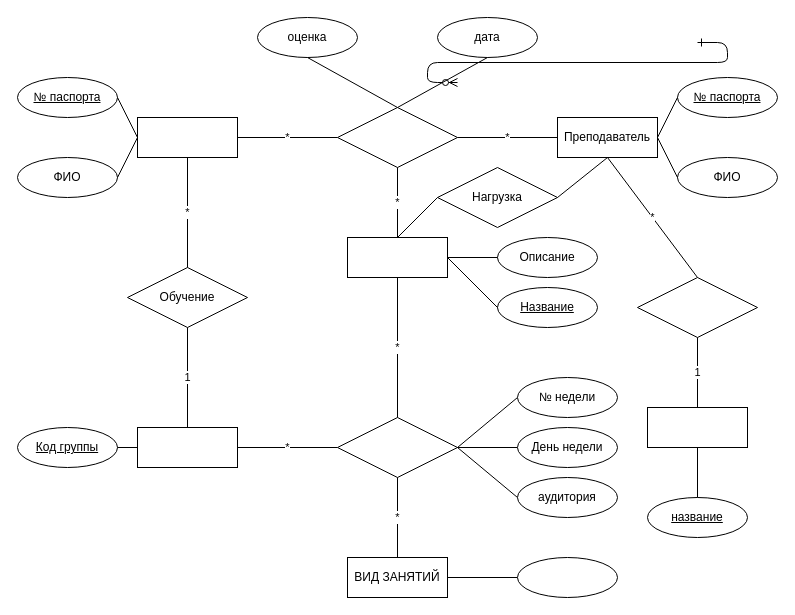
Some shapes in this 795 by 615 pixel diagram are drawn without their labels. The centre of each missing label's shape, as x and y in pixels:
"Ведомость" belongs at pixel 397 137.
"вид" belongs at pixel 567 577.
"ГРУППА" belongs at pixel 187 447.
"Дисциплина" belongs at pixel 397 257.
"ДОЛЖНОСТЬ" belongs at pixel 697 427.
"Занимает" belongs at pixel 697 307.
"Расписание" belongs at pixel 397 447.
"СТУДЕНТ" belongs at pixel 187 137.
